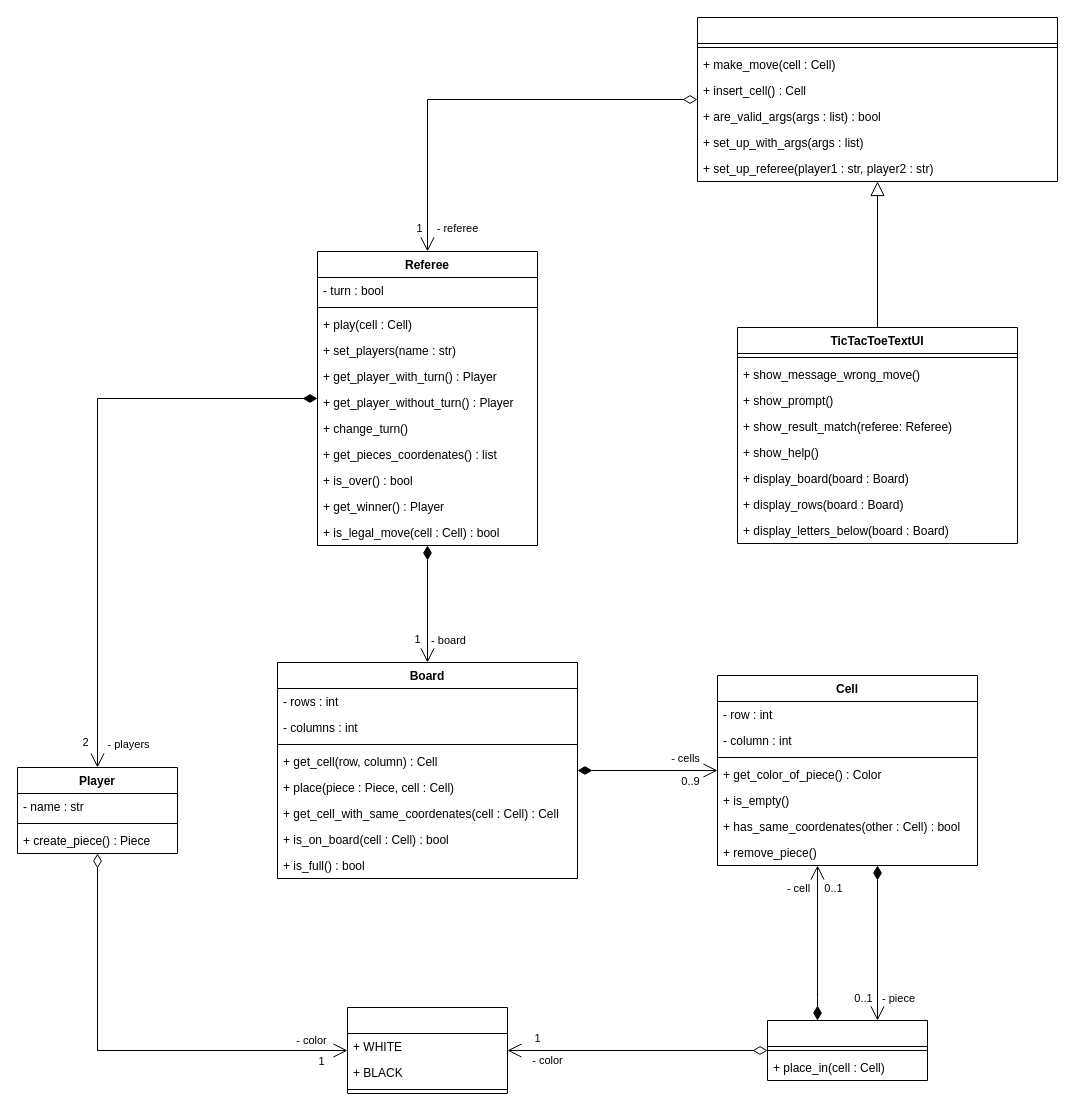
Image size: 1075x1111. Some labels were removed from this diagram. The box of each missing label's shape, as (x1, y1, x2, y2) in pixels:
Color: (346, 1006, 508, 1094)
Piece: (766, 1020, 928, 1080)
TicTacToe: (696, 16, 1058, 182)
